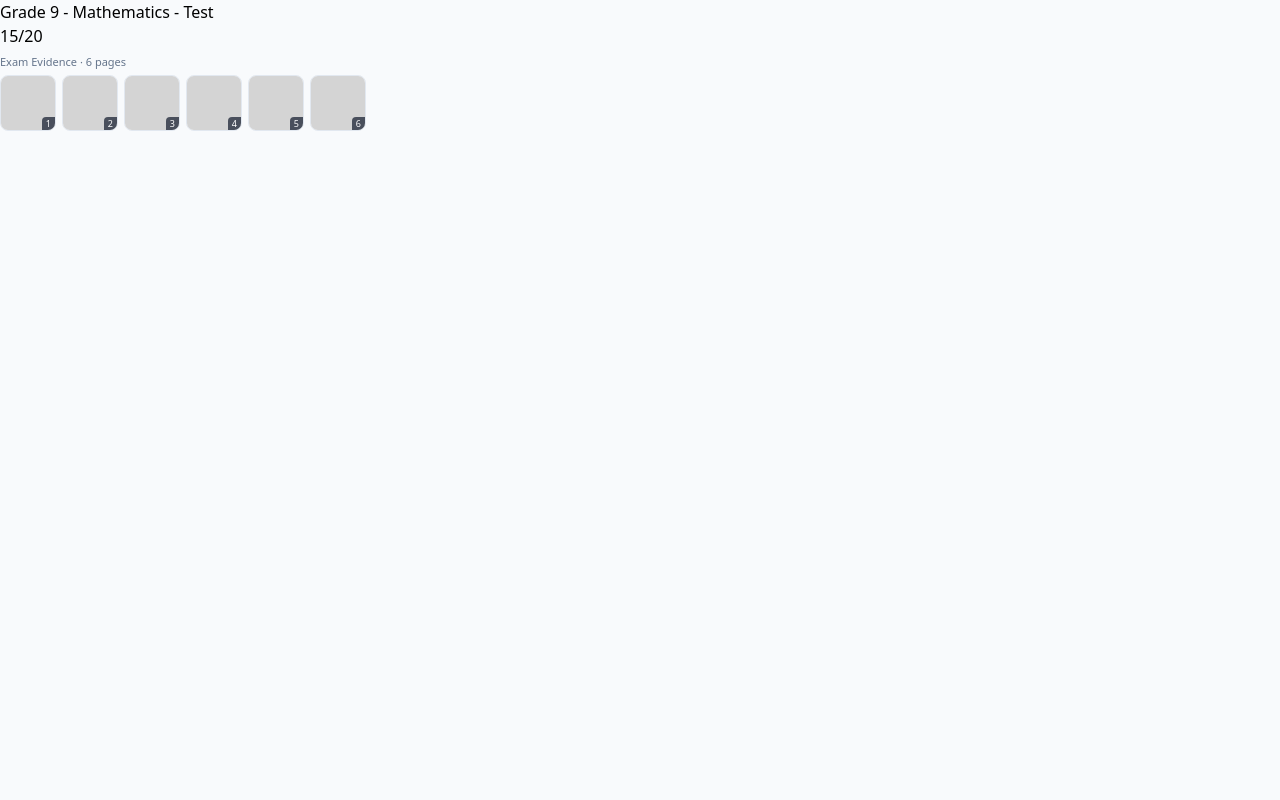
it: Exam evidence thumbnails + in-app viewer › R/S: opening page 4 then closing returns to the same result screen
The image size is (1280, 800).
Click the button named "Open exam page 4 of 6" at [214, 102], box [186,74,242,130]
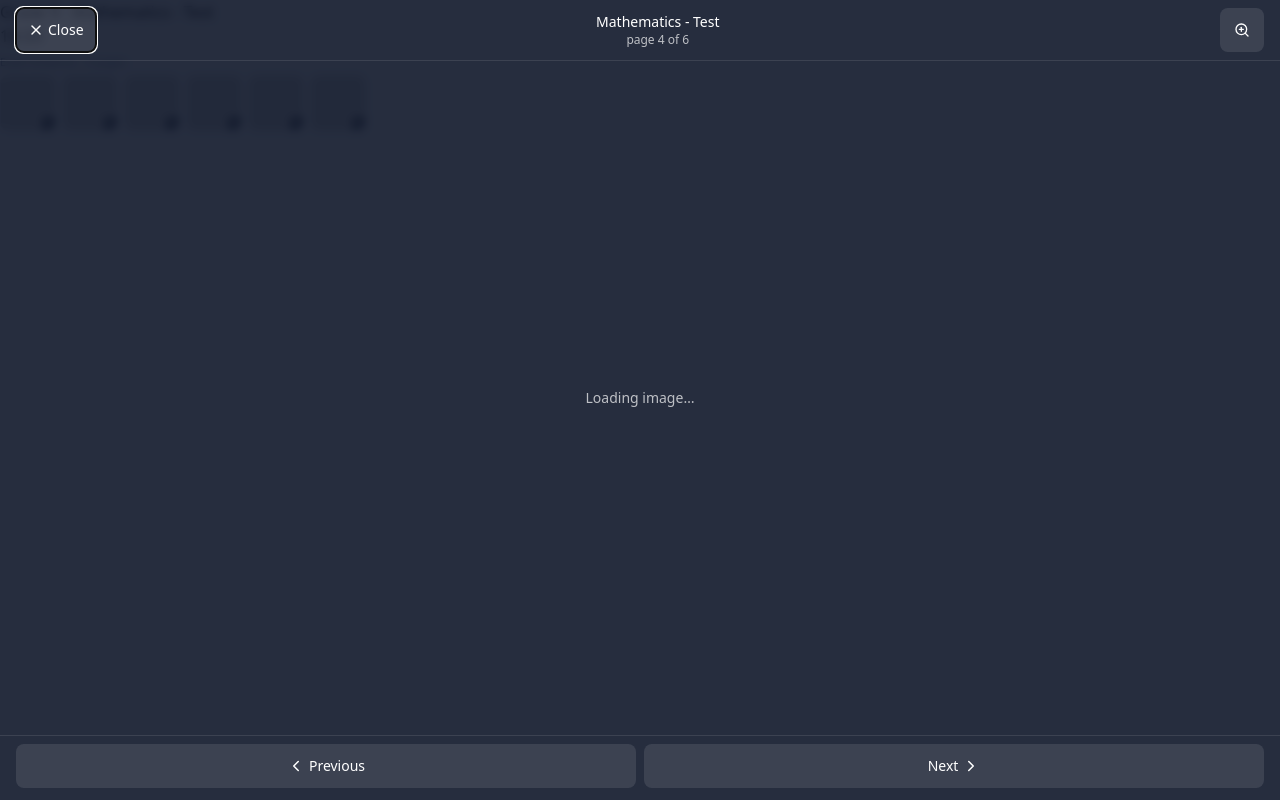
Check: the text "page 4 of 6" is shown, box [626,31,689,48]
Click the button with aria-label "Close viewer" at [56, 30], box [16,8,96,52]
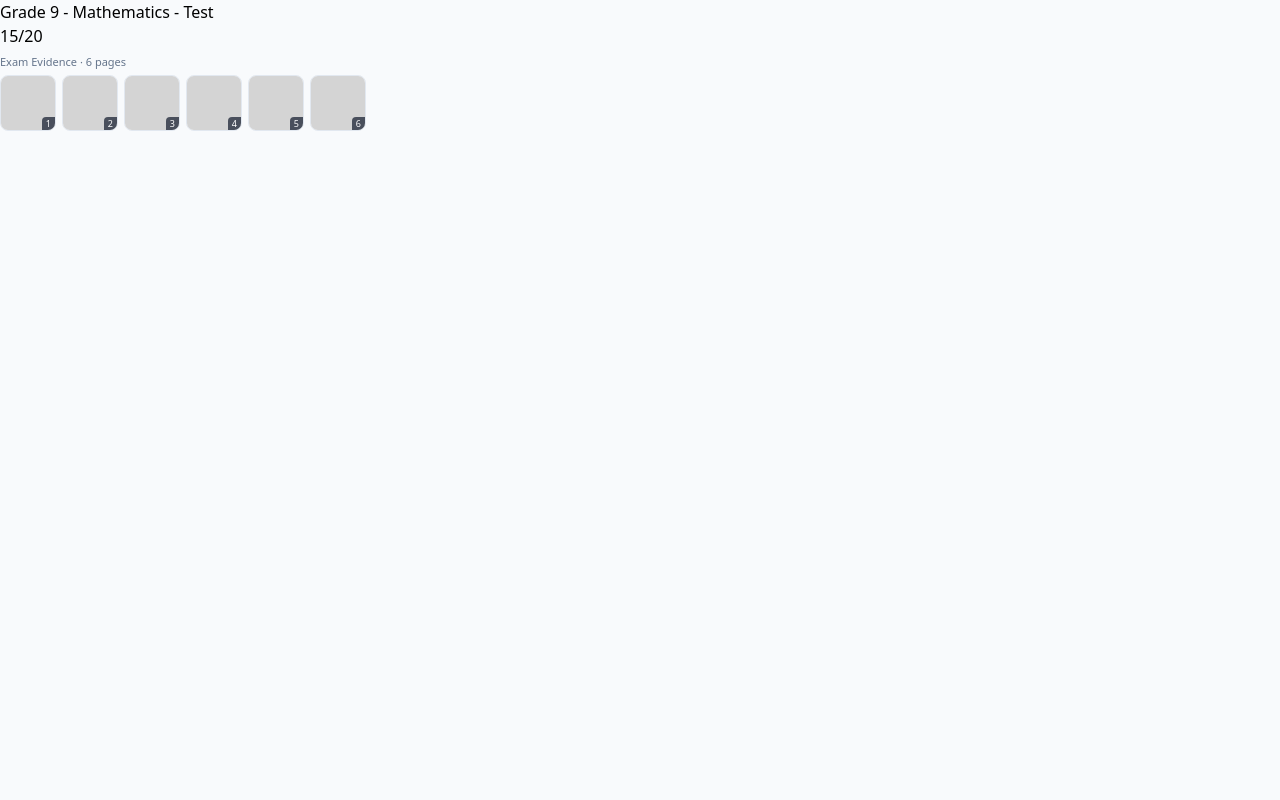
Check: the heading "Grade 9 - Mathematics - Test" is shown, box [0,1,214,23]
Check: the dialog is gone
